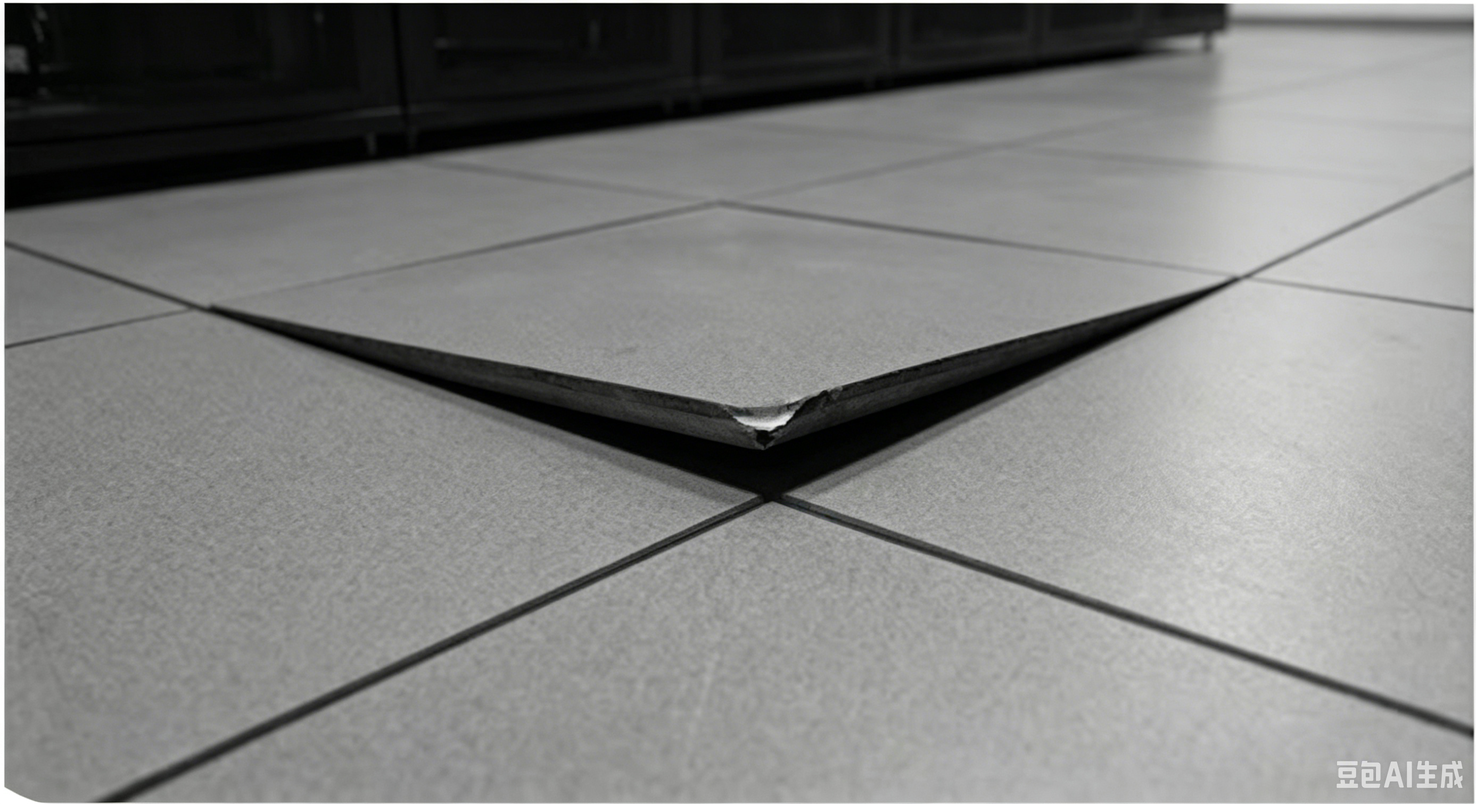floor_defect: (214, 294, 800, 511), (765, 319, 1136, 486), (1108, 264, 1255, 348)
